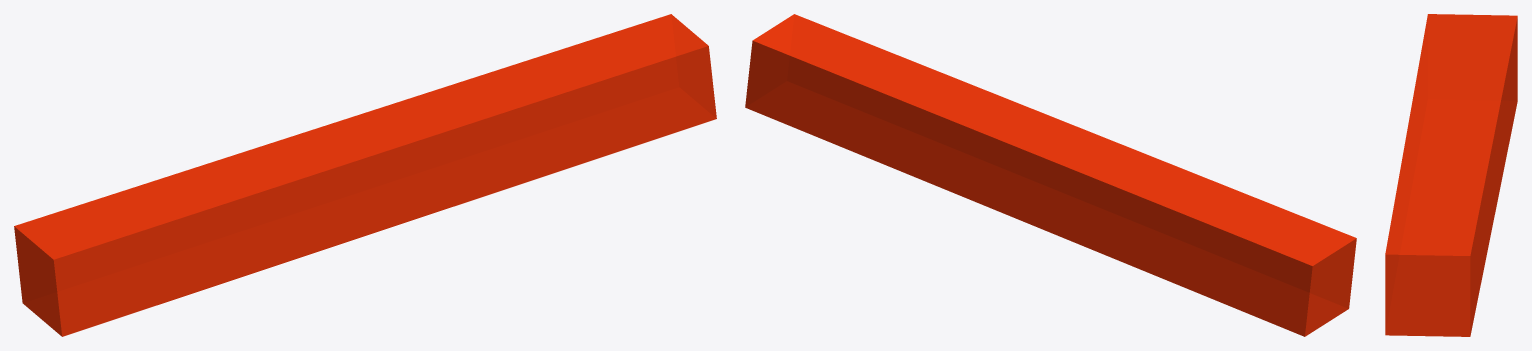
The model's file is Event_420094457_EErechit_27.fbx.
3 views of the same model, side by side, from view 1: azimuth 30°, elevation 25°; view 2: azimuth 150°, elevation 25°; view 3: azimuth 270°, elevation 25° (orthographic). The views are drawn at different scales.
Visible parts, largest first — view 1: Model; view 2: Model; view 3: Model.
Boxes of the visible parts, x1,y1,x2,y2 form: Model: (14, 14, 716, 336); Model: (745, 14, 1356, 336); Model: (1385, 14, 1517, 336).
Size of the model in its own units: 0.6498 by 0.148 by 0.1128.
